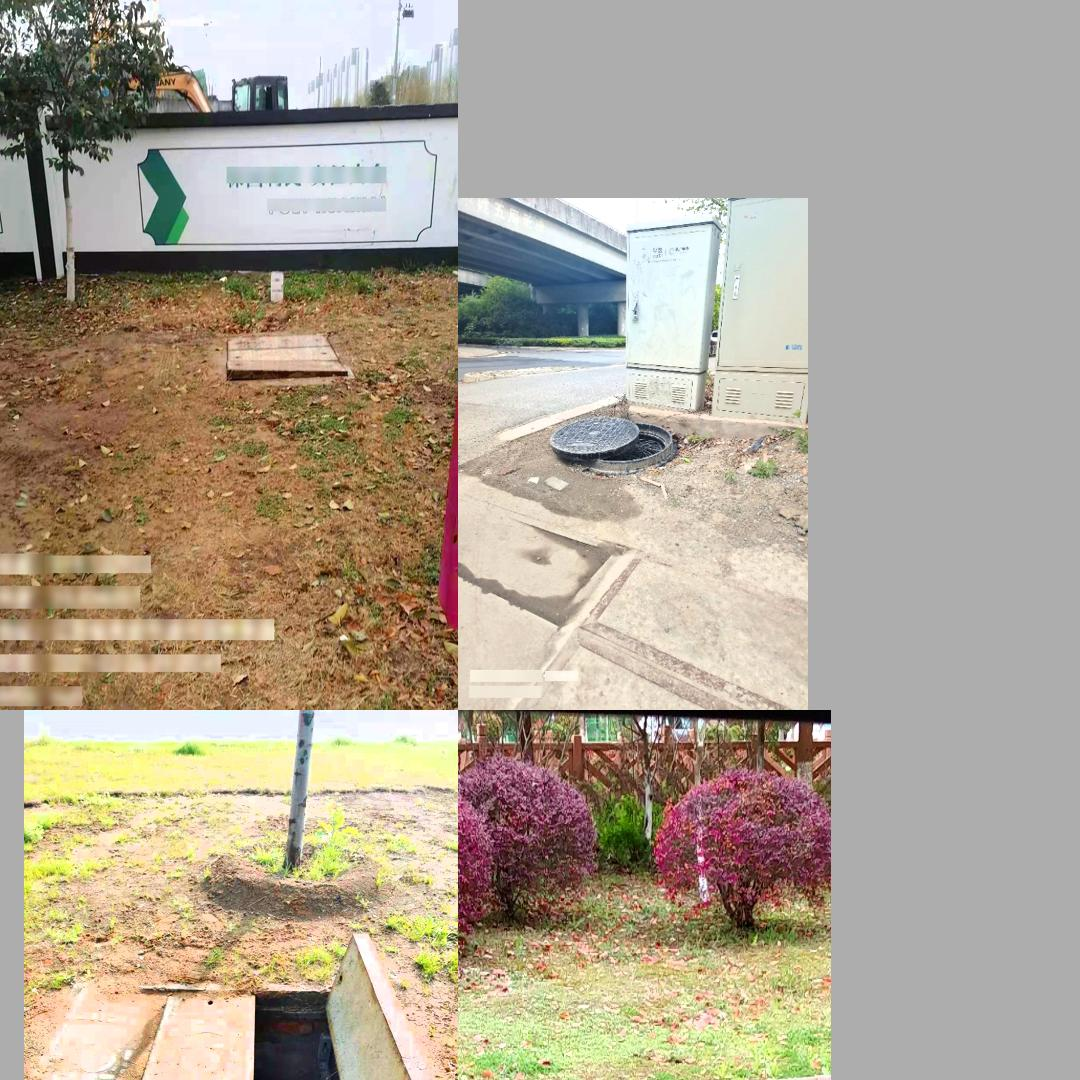uncovered: (28, 937, 453, 1080), (222, 330, 353, 386), (551, 416, 673, 469)
